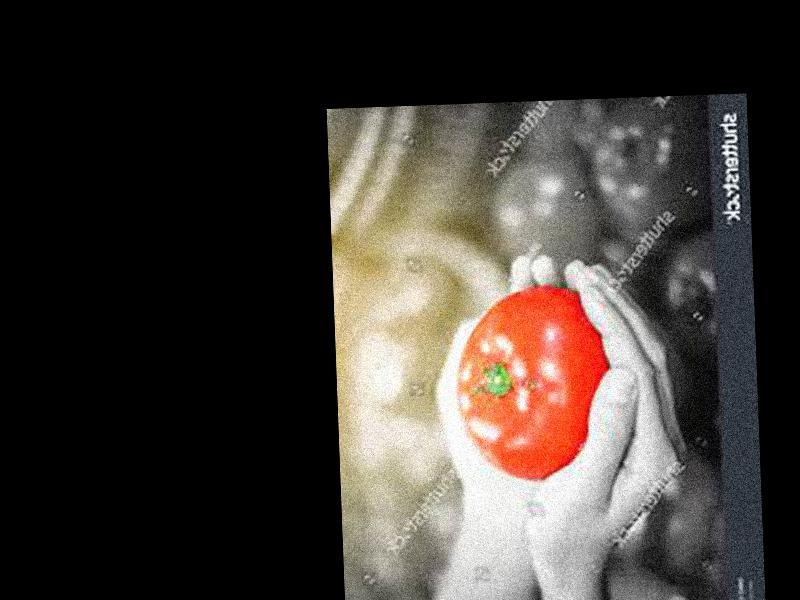Tomato: (454, 285, 612, 482)
